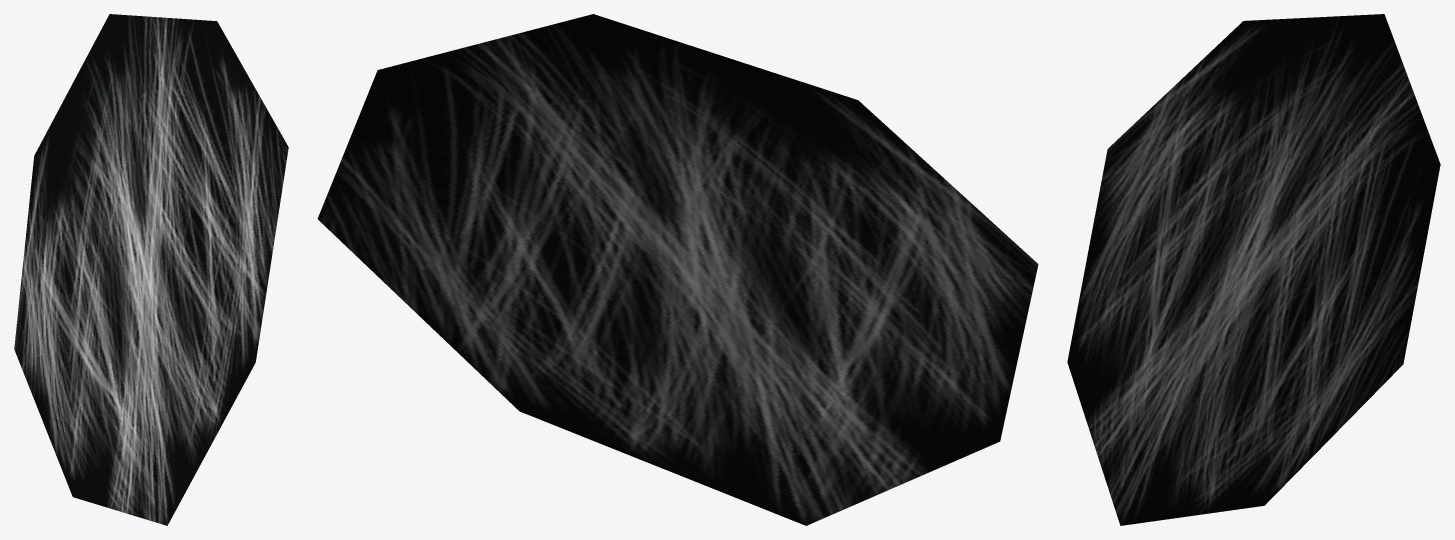
Rendered from MIRKWOOD_SPIDERWEB_COVERS14.fbx.
3 views of the same model, side by side, from view 1: azimuth 30°, elevation 25°; view 2: azimuth 150°, elevation 25°; view 3: azimuth 270°, elevation 25° (orthographic). The views are drawn at different scales.
Visible parts, largest first — view 1: MIRKWOOD_SPIDERWEB_COVERS14; view 2: MIRKWOOD_SPIDERWEB_COVERS14; view 3: MIRKWOOD_SPIDERWEB_COVERS14.
Part boxes in pixels (box(x1,y1,x2,y2)): MIRKWOOD_SPIDERWEB_COVERS14: box(14, 14, 288, 525); MIRKWOOD_SPIDERWEB_COVERS14: box(317, 14, 1038, 525); MIRKWOOD_SPIDERWEB_COVERS14: box(1067, 14, 1440, 525).
Size of the model in its own units: 19003 by 19740 by 12355.
Materials: 1 (1 with a texture image).
